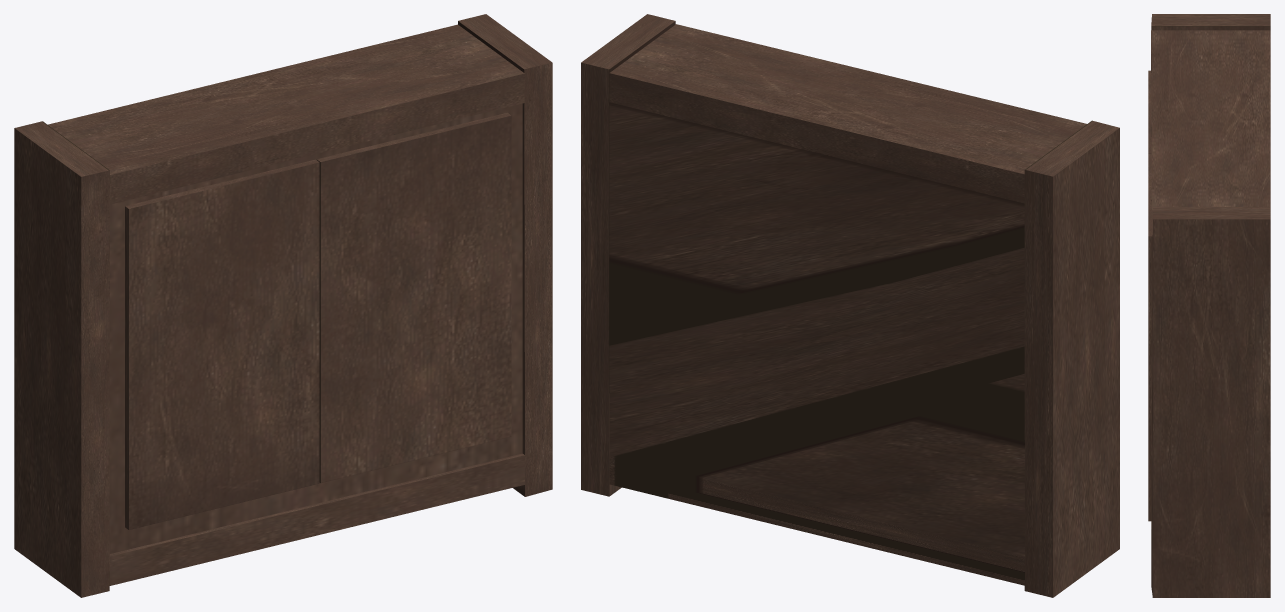
File: SmallSmallTable.fbx
3 views of the same model, side by side, from view 1: azimuth 30°, elevation 25°; view 2: azimuth 150°, elevation 25°; view 3: azimuth 270°, elevation 25° (orthographic). The views are drawn at different scales.
Visible parts, largest first — view 1: WallR; view 2: WallR; view 3: WallR.
Part boxes in pixels (x1=…): WallR: x1=14, y1=14, x2=552, y2=597; WallR: x1=581, y1=14, x2=1119, y2=597; WallR: x1=1148, y1=14, x2=1270, y2=597.
Bounding box in the file's own units: 200 × 174 × 50.6.
1 material, 1 textured.
